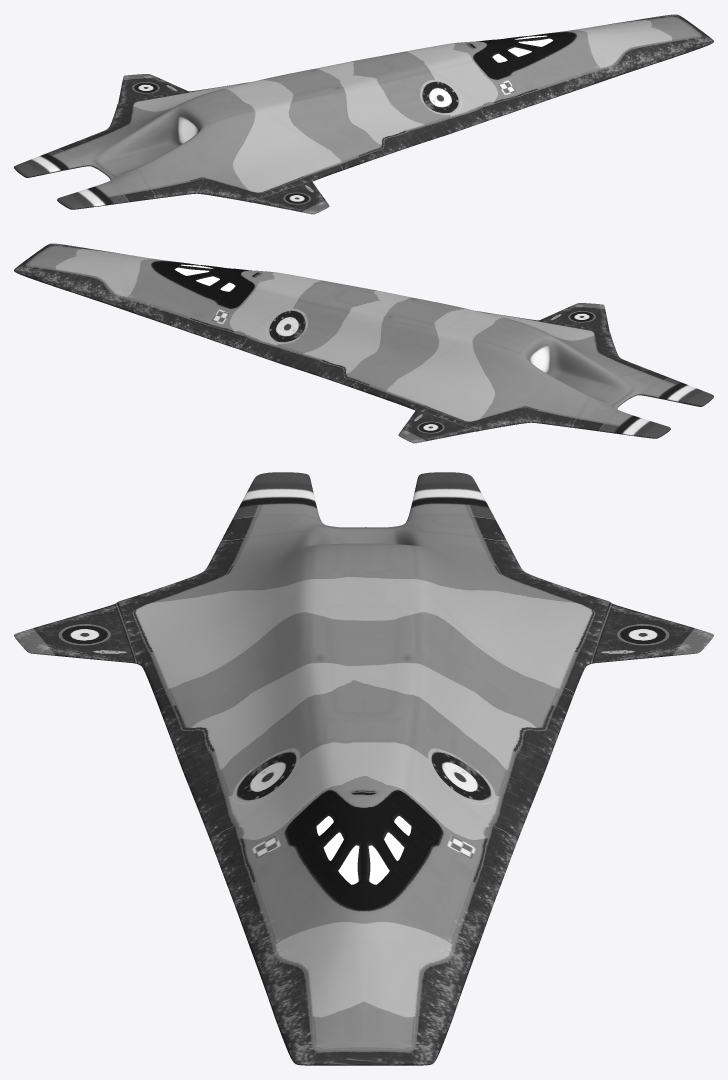
Rendered from shuttle-low-british.glb.
The picture shows the model from 3 angles, top to bottom: view 1: azimuth 30°, elevation 25°; view 2: azimuth 150°, elevation 25°; view 3: azimuth 270°, elevation 25°; orthographic projection. The views are drawn at different scales.
Parts seen in each view (by area): view 1: Plane_retopo; view 2: Plane_retopo; view 3: Plane_retopo.
Part boxes in pixels (left/top/right/bottom): Plane_retopo: left=14, top=14, right=713, bottom=214; Plane_retopo: left=14, top=243, right=713, bottom=443; Plane_retopo: left=14, top=472, right=713, bottom=1065.
Bounding box in the file's own units: 35.86 × 2.34 × 17.93.
1 material, 1 textured.
